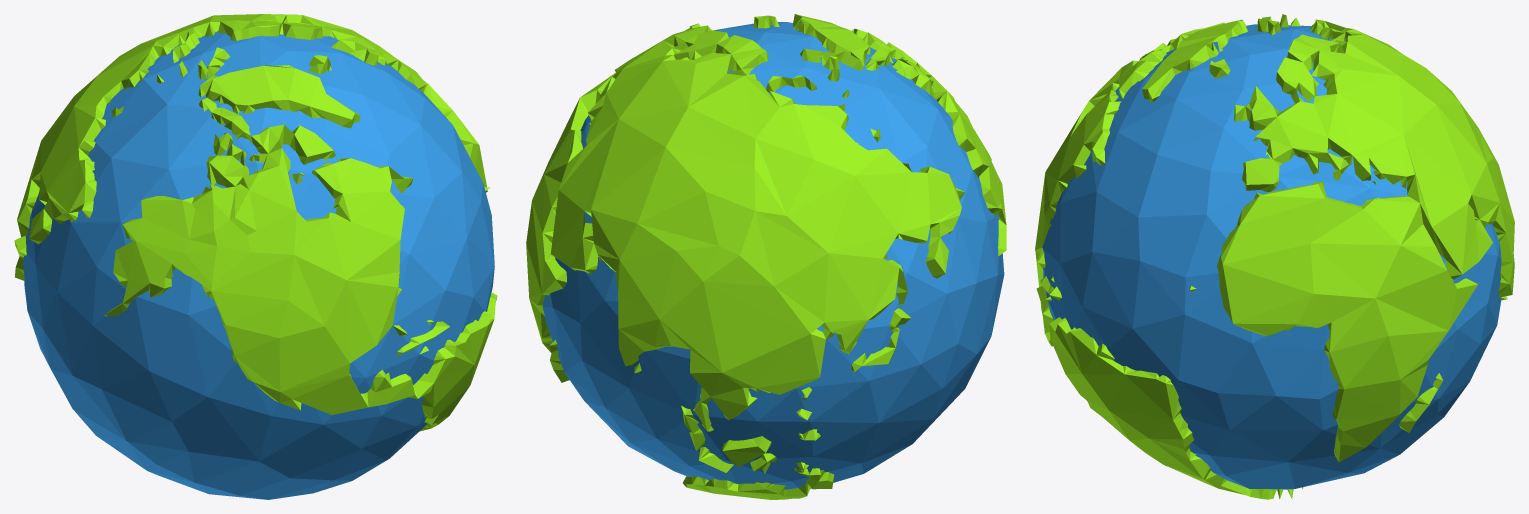
Rendered from Earth.glb.
3 renders of one model, left to right at view 1: azimuth 30°, elevation 25°; view 2: azimuth 150°, elevation 25°; view 3: azimuth 270°, elevation 25°, orthographic.
Parts seen in each view (by area): view 1: low_poly_earth; view 2: low_poly_earth; view 3: low_poly_earth.
Boxes of the visible parts, left/top/right/bottom form: low_poly_earth: left=14, top=14, right=497, bottom=499; low_poly_earth: left=526, top=14, right=1006, bottom=499; low_poly_earth: left=1035, top=14, right=1514, bottom=499.
Size of the model in its own units: 1.95 by 2.01 by 1.99.
